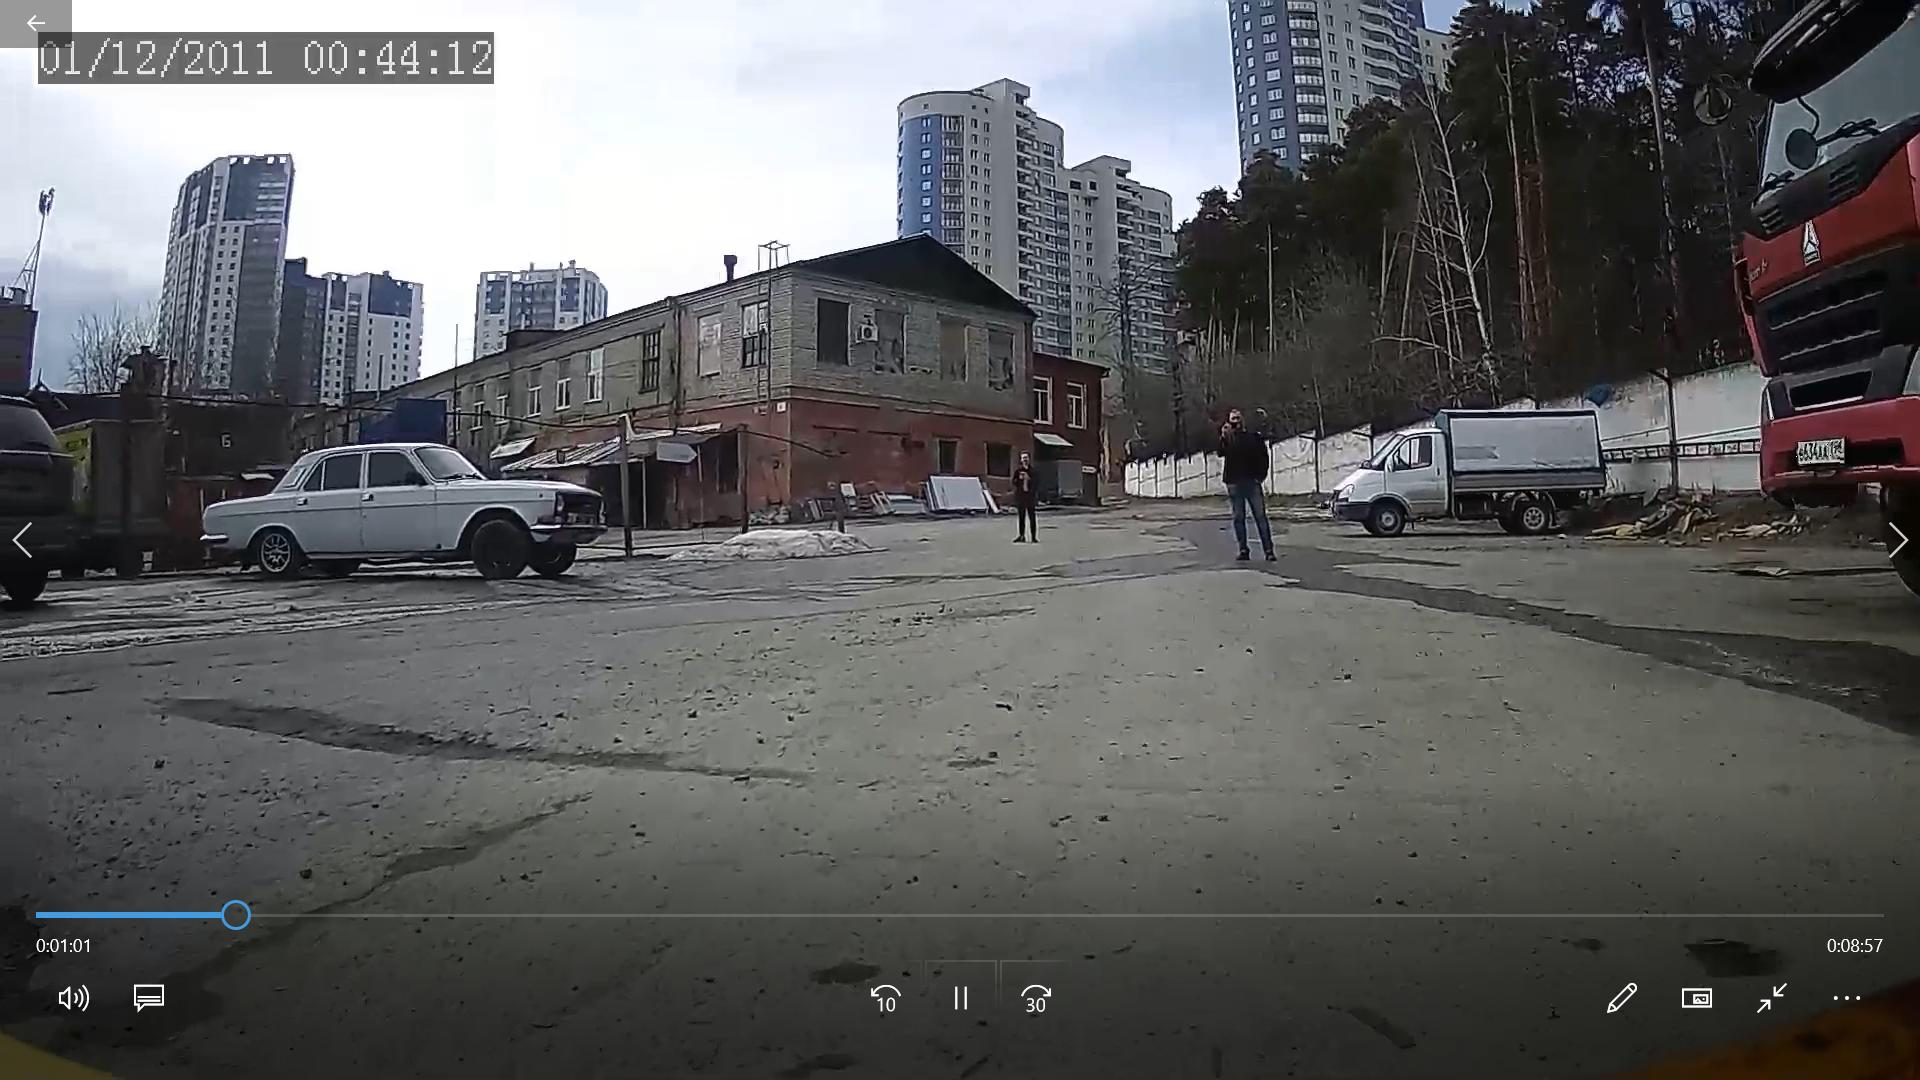plate: (1796, 444, 1842, 467)
